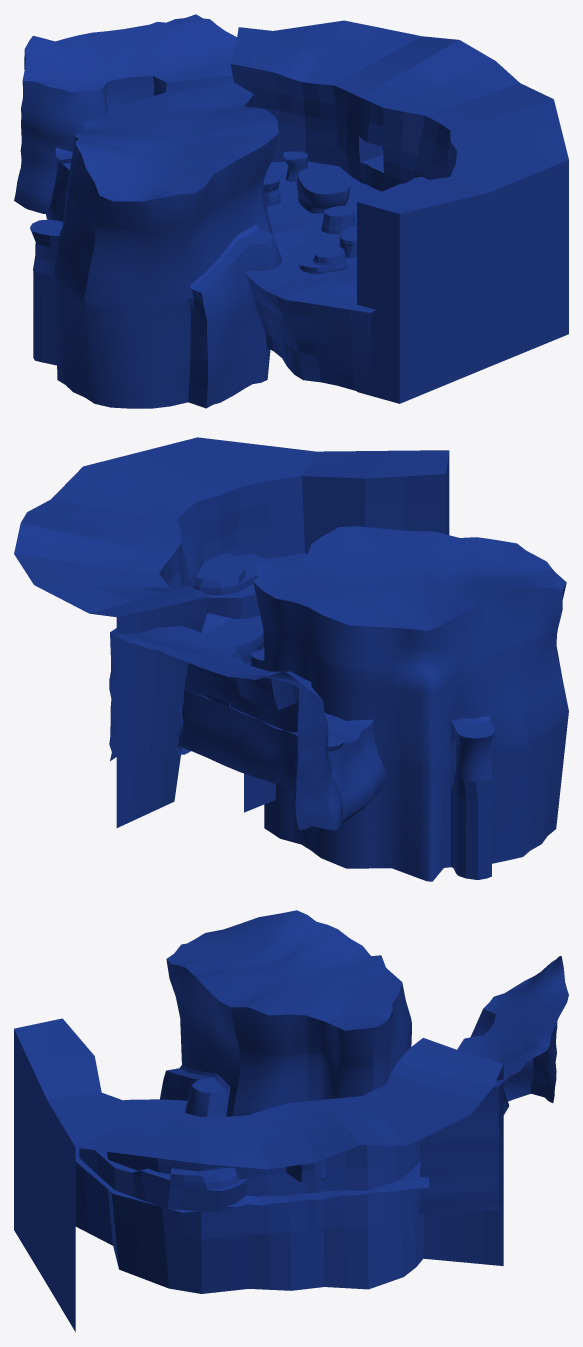
The model's file is Zone5Final.FBX.
The picture shows the model from 3 angles, top to bottom: view 1: azimuth 30°, elevation 25°; view 2: azimuth 150°, elevation 25°; view 3: azimuth 270°, elevation 25°; orthographic projection. The views are drawn at different scales.
Parts seen in each view (by area): view 1: New_Game_Object_26, New_Game_Object_25, New_Game_Object_27, New_Game_Object_24, New_Game_Object_17, New_Game_Object_22, New_Game_Object_043, New_Game_Object_19, New_Game_Object__2__1; view 2: New_Game_Object_25, New_Game_Object_26, New_Game_Object_27, New_Game_Object_043, New_Game_Object_23, New_Game_Object_17, New_Game_Object_24; view 3: New_Game_Object_26, New_Game_Object_25, New_Game_Object_27, New_Game_Object_23, New_Game_Object_24.
Part boxes in pixels (left/top/right/bottom): New_Game_Object_26: left=230, top=20, right=568, bottom=403; New_Game_Object_25: left=30, top=83, right=281, bottom=408; New_Game_Object_27: left=14, top=14, right=236, bottom=213; New_Game_Object_24: left=245, top=161, right=380, bottom=394; New_Game_Object_17: left=296, top=166, right=349, bottom=213; New_Game_Object_22: left=297, top=245, right=347, bottom=274; New_Game_Object_043: left=46, top=147, right=72, bottom=221; New_Game_Object_19: left=321, top=205, right=356, bottom=234; New_Game_Object__2__1: left=282, top=151, right=308, bottom=181; New_Game_Object_25: left=253, top=526, right=568, bottom=881; New_Game_Object_26: left=14, top=437, right=449, bottom=827; New_Game_Object_27: left=109, top=625, right=342, bottom=830; New_Game_Object_043: left=174, top=687, right=388, bottom=824; New_Game_Object_23: left=194, top=552, right=307, bottom=619; New_Game_Object_17: left=206, top=618, right=263, bottom=665; New_Game_Object_24: left=201, top=613, right=275, bottom=812; New_Game_Object_26: left=14, top=1018, right=503, bottom=1331; New_Game_Object_25: left=160, top=910, right=411, bottom=1116; New_Game_Object_27: left=418, top=956, right=568, bottom=1213; New_Game_Object_23: left=79, top=1148, right=246, bottom=1211; New_Game_Object_24: left=75, top=1099, right=428, bottom=1212.
Size of the model in its own units: 25788 by 12825 by 25726.
